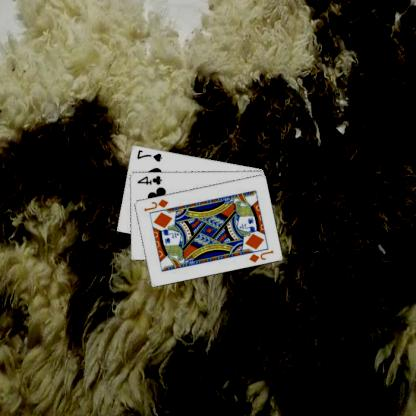4C: (136, 173, 165, 185)
7S: (136, 147, 165, 163)
JD: (143, 196, 171, 213), (248, 247, 276, 264)
